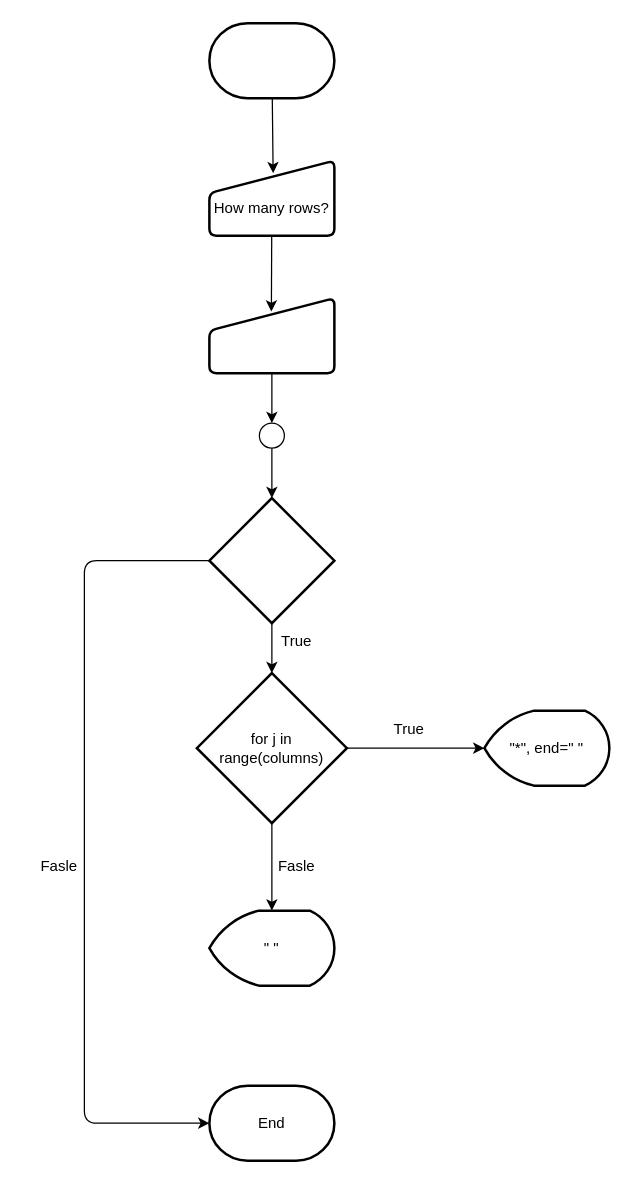
This 631x1183 diagram has some shape labels left out. Each missing label, with the centre of its shape:
for i in range(rows): point 271,560
How many columns?: point 271,335
Start: point 271,60
